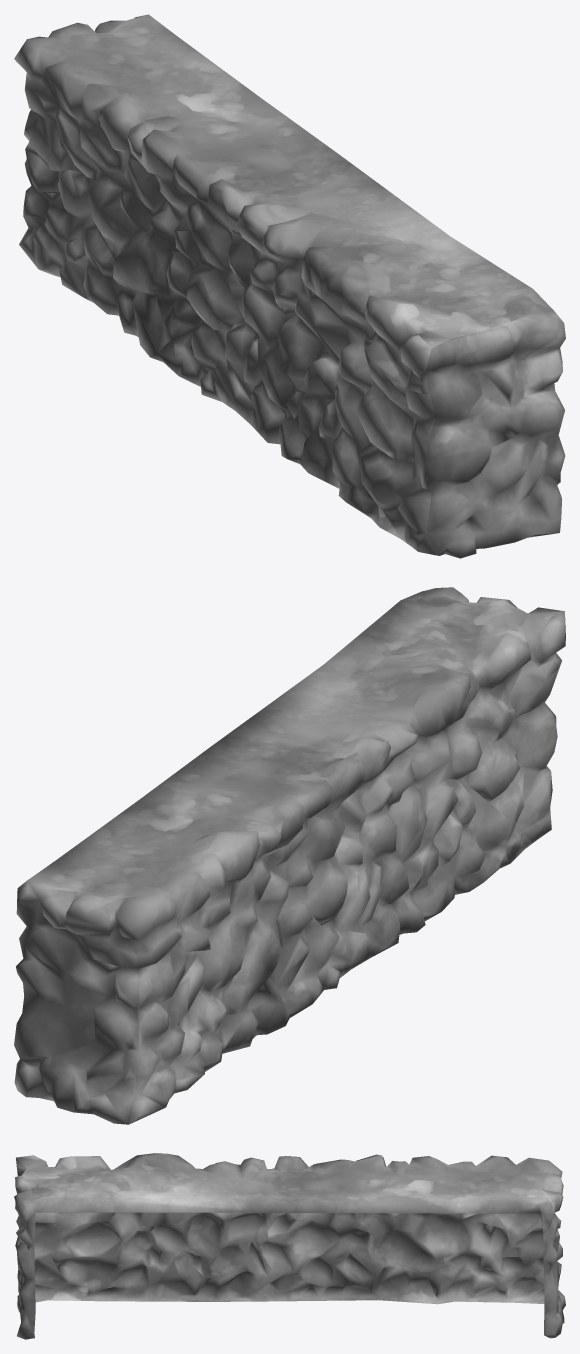
The model's file is SM_WallCobble_01a.fbx.
3 renders of one model, top to bottom at view 1: azimuth 30°, elevation 25°; view 2: azimuth 150°, elevation 25°; view 3: azimuth 270°, elevation 25°, orthographic. The views are drawn at different scales.
Parts seen in each view (by area): view 1: SM_WallCobble_01a_LOD0; view 2: SM_WallCobble_01a_LOD0; view 3: SM_WallCobble_01a_LOD0.
Boxes of the visible parts, x1,y1,x2,y2 form: SM_WallCobble_01a_LOD0: [14, 14, 565, 558]; SM_WallCobble_01a_LOD0: [14, 587, 565, 1124]; SM_WallCobble_01a_LOD0: [14, 1153, 565, 1339].
Bounding box in the file's own units: 58.28 × 287 × 84.18.
